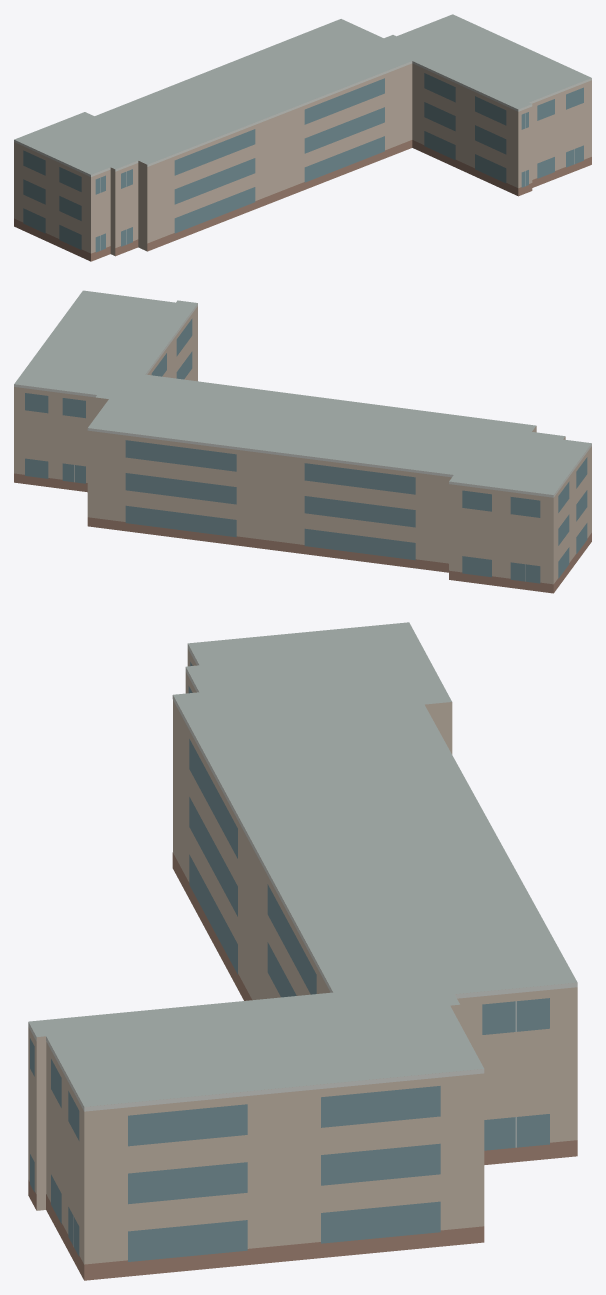
The model's file is survey-upis-32804997.glb.
3 renders of one model, top to bottom at view 1: azimuth 30°, elevation 25°; view 2: azimuth 150°, elevation 25°; view 3: azimuth 270°, elevation 25°, orthographic. The views are drawn at different scales.
Visible parts, largest first — view 1: survey-upis-32804997.tmp; view 2: survey-upis-32804997.tmp; view 3: survey-upis-32804997.tmp.
Part boxes in pixels (x1,y1,x2,y2): survey-upis-32804997.tmp: (14,14,591,261); survey-upis-32804997.tmp: (14,290,591,593); survey-upis-32804997.tmp: (28,622,577,1280).
Size of the model in its own units: 54.78 by 9.15 by 26.25.
